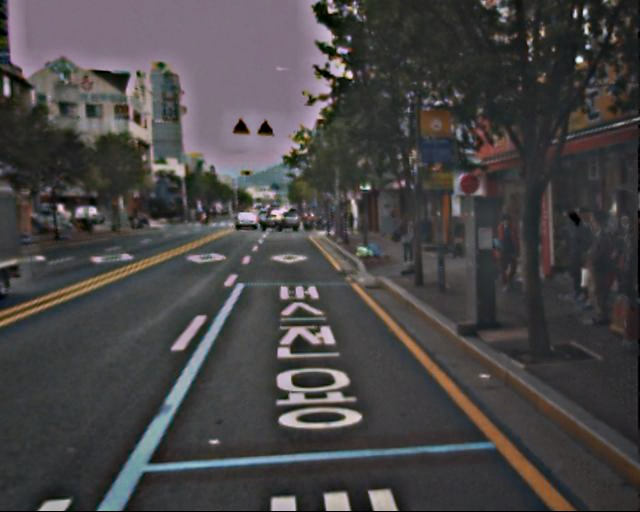person: (553, 205, 640, 321), (490, 214, 522, 293), (396, 212, 418, 266), (451, 219, 467, 259)
